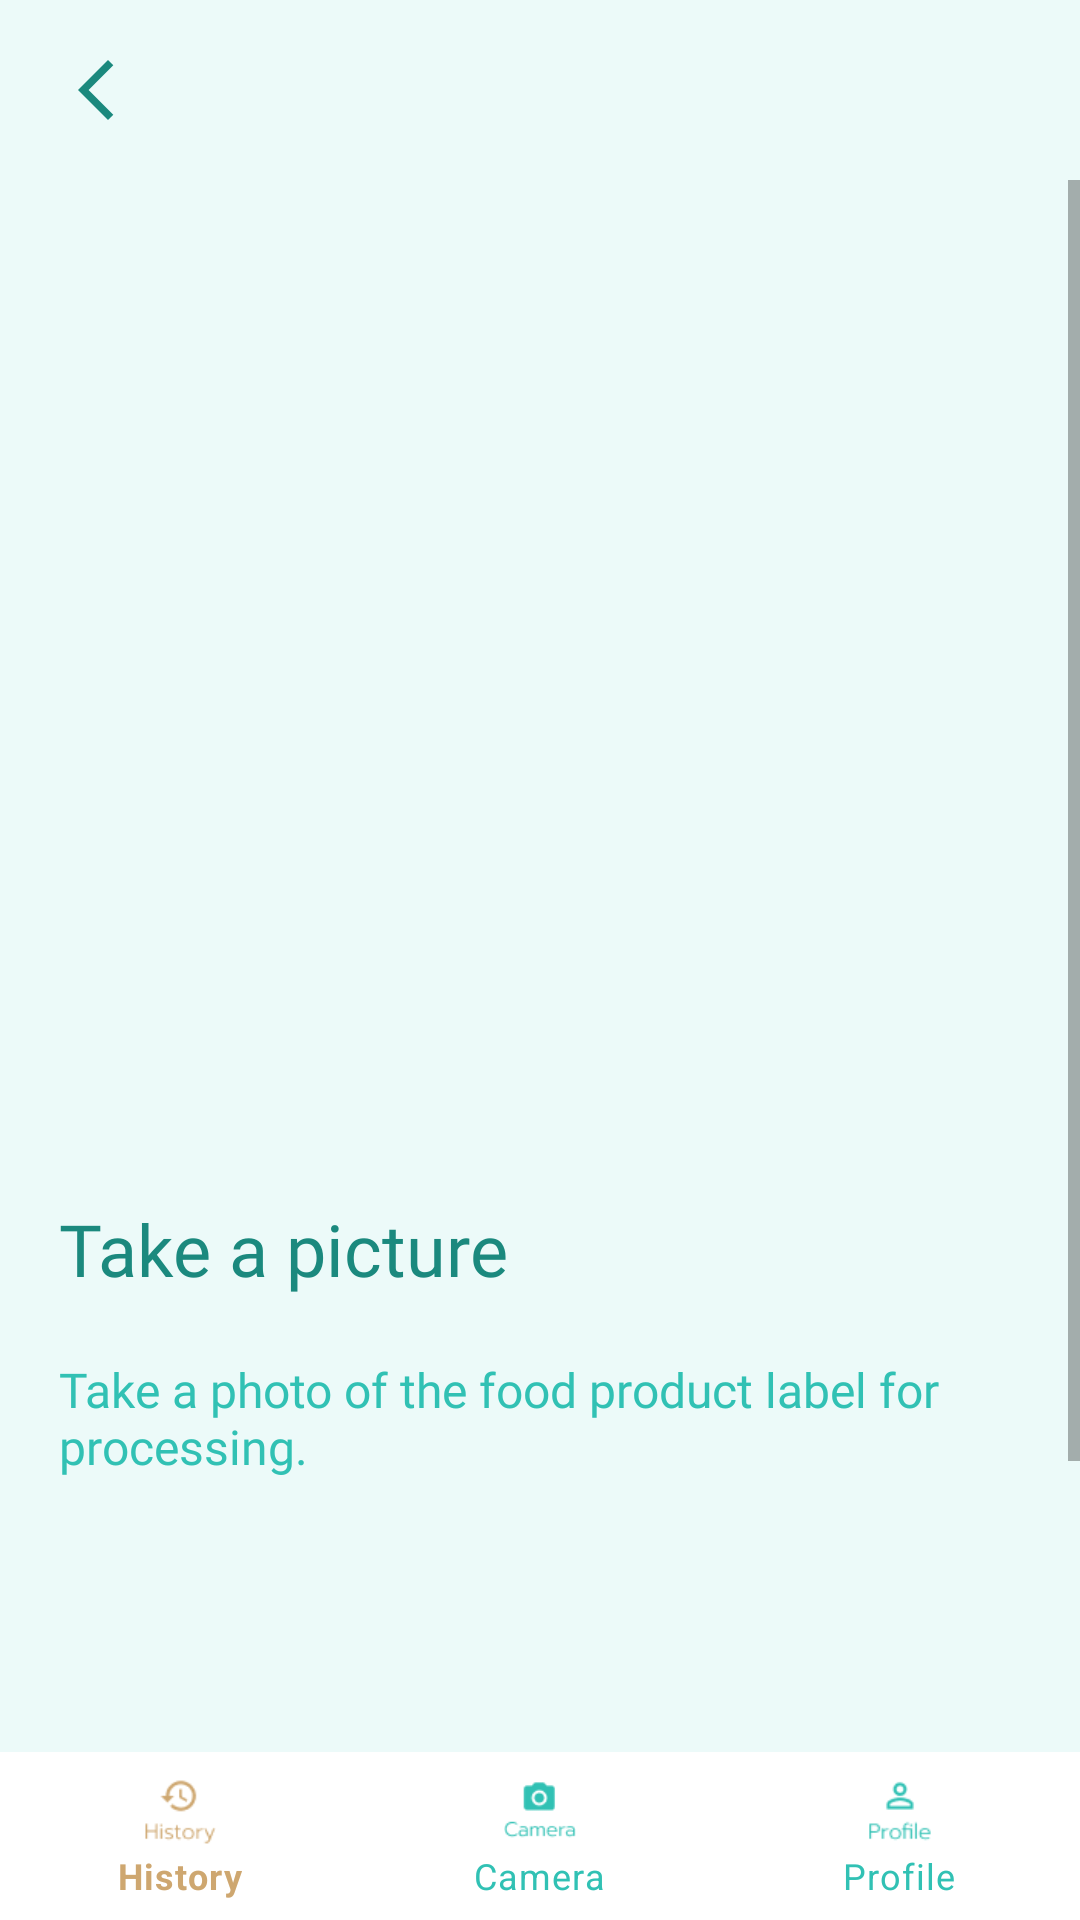

Where icons sit on this 1080px×1920px app screen, as (x1, y1, x2, y2):
arrow: (78, 60, 113, 120)
